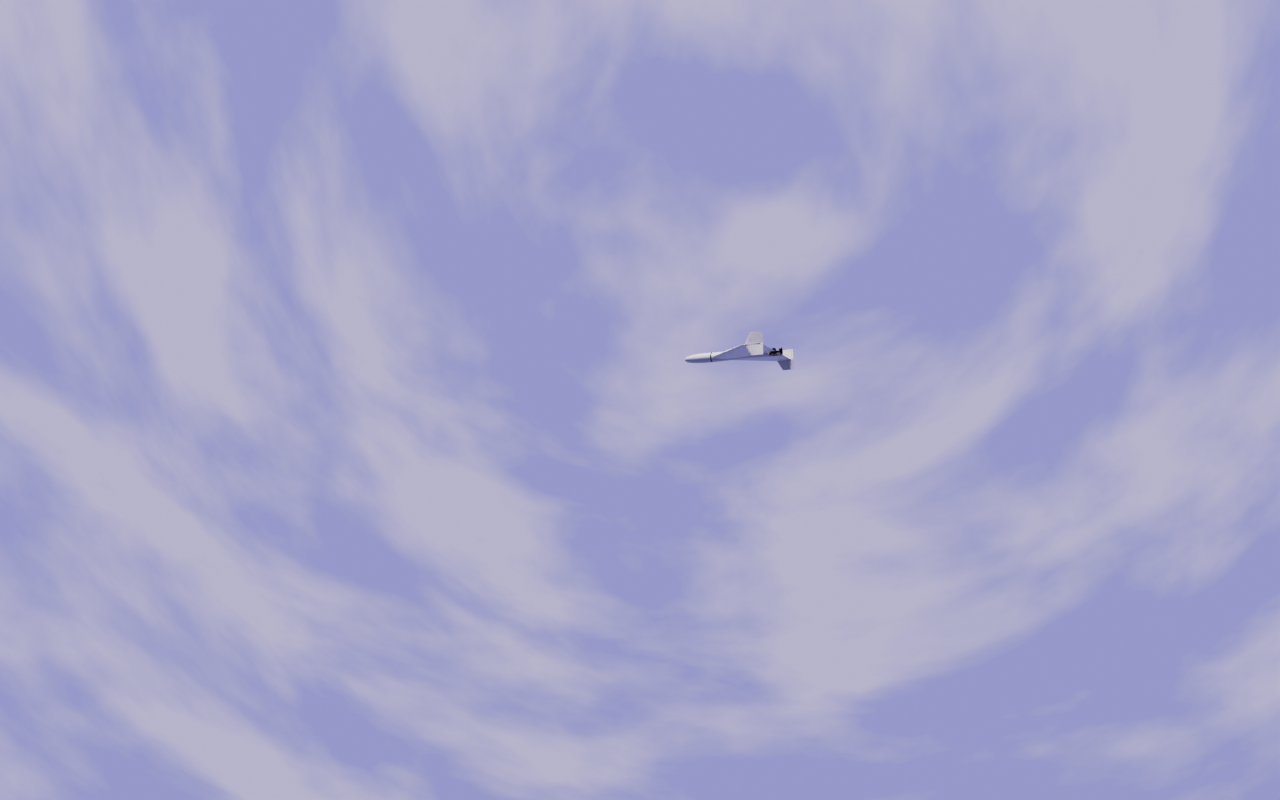shahed: (685, 331, 796, 372)
